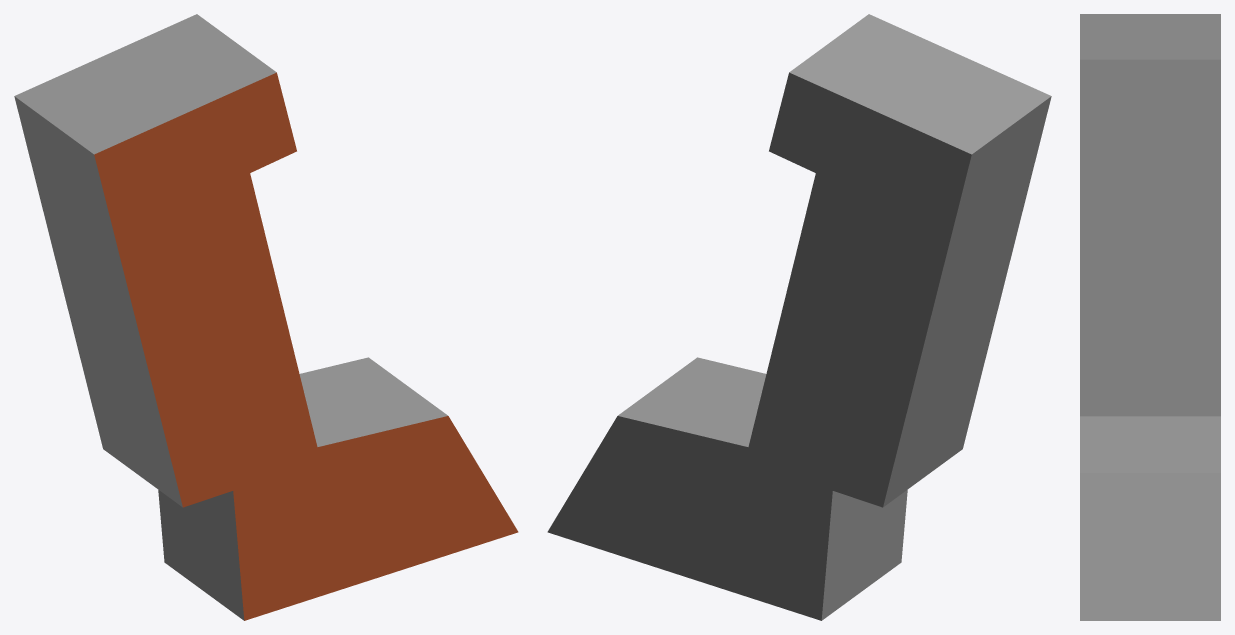
Rendered from construction_1604_assumed_A_Casa_h6m.obj.
3 renders of one model, left to right at view 1: azimuth 30°, elevation 25°; view 2: azimuth 150°, elevation 25°; view 3: azimuth 270°, elevation 25°, orthographic. The views are drawn at different scales.
Parts seen in each view (by area): view 1: construction_1604_assumed_A_Casa; view 2: construction_1604_assumed_A_Casa; view 3: construction_1604_assumed_A_Casa.
Part boxes in pixels (x1,y1,x2,y2): construction_1604_assumed_A_Casa: (14, 14, 518, 620); construction_1604_assumed_A_Casa: (547, 14, 1051, 620); construction_1604_assumed_A_Casa: (1080, 14, 1220, 620).
Bounding box in the file's own units: 18.41 × 22.4 × 6.
